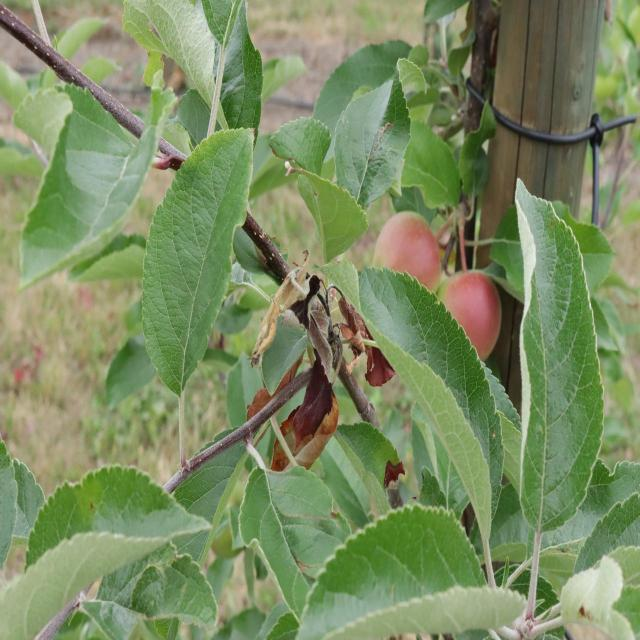-FireBlight-: (271, 263, 348, 467)
